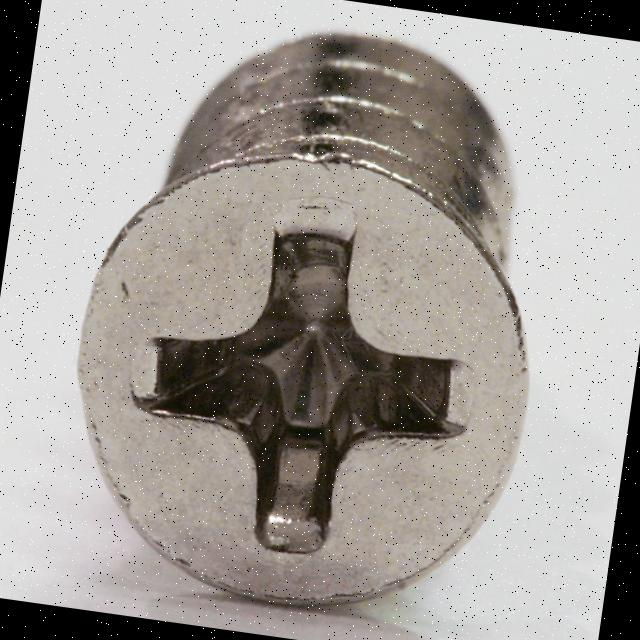Phillips: (46, 127, 557, 638)
